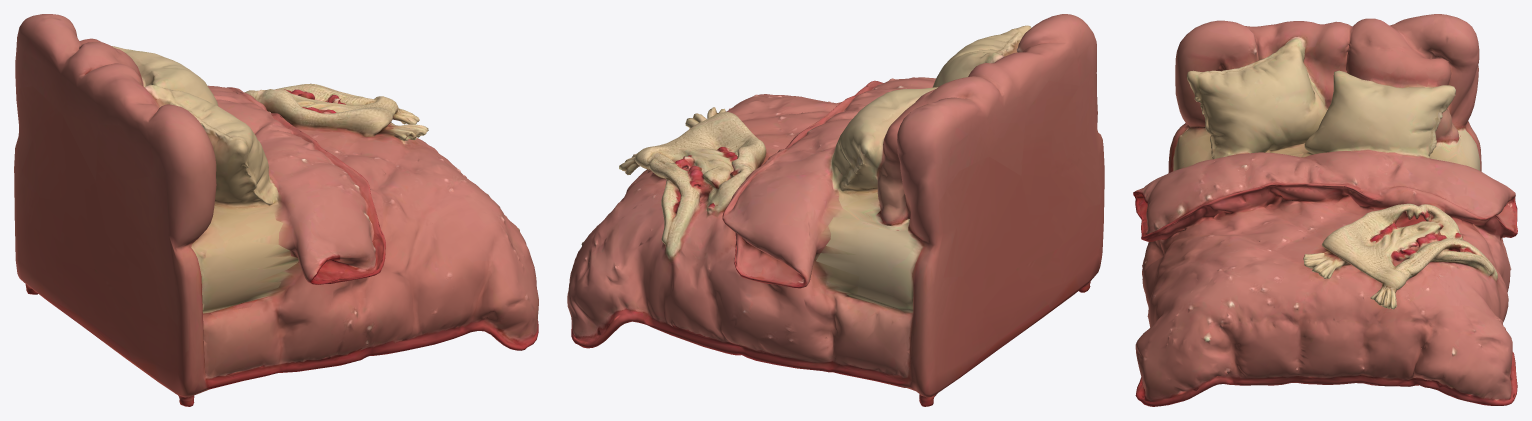
Rendered from held-bedding.glb.
3 renders of one model, left to right at view 1: azimuth 30°, elevation 25°; view 2: azimuth 150°, elevation 25°; view 3: azimuth 270°, elevation 25°, orthographic. The views are drawn at different scales.
Parts seen in each view (by area): view 1: tripo_node_9b533b0d-3e55-4ed5-bf93-01fd9c440953; view 2: tripo_node_9b533b0d-3e55-4ed5-bf93-01fd9c440953; view 3: tripo_node_9b533b0d-3e55-4ed5-bf93-01fd9c440953.
Part boxes in pixels (<box>): tripo_node_9b533b0d-3e55-4ed5-bf93-01fd9c440953: <box>14,14,538,406</box>; tripo_node_9b533b0d-3e55-4ed5-bf93-01fd9c440953: <box>567,14,1104,406</box>; tripo_node_9b533b0d-3e55-4ed5-bf93-01fd9c440953: <box>1133,14,1517,406</box>.
Size of the model in its own units: 0.9575 by 0.7045 by 0.973.
Materials: 1 (1 with a texture image).
